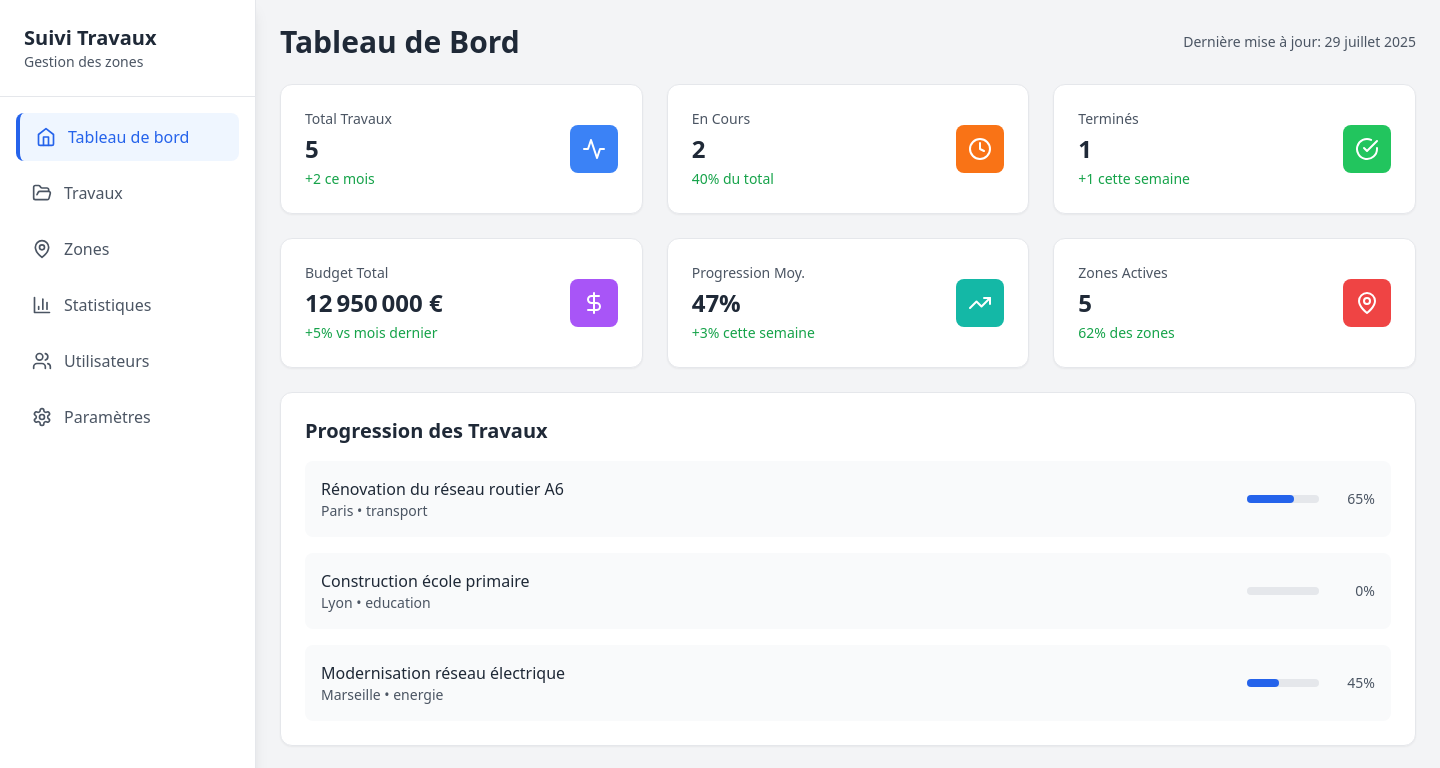
App Integration › should navigate between tabs
Expected: the heading "Tableau de Bord" is shown, x1=280 y1=24 x2=520 y2=60
// Click on Travaux tab
What coordinates should you click on to do the following:
click the button "Travaux"
I would click on:
 (128, 193)
Its box is x1=16 y1=169 x2=239 y2=217.
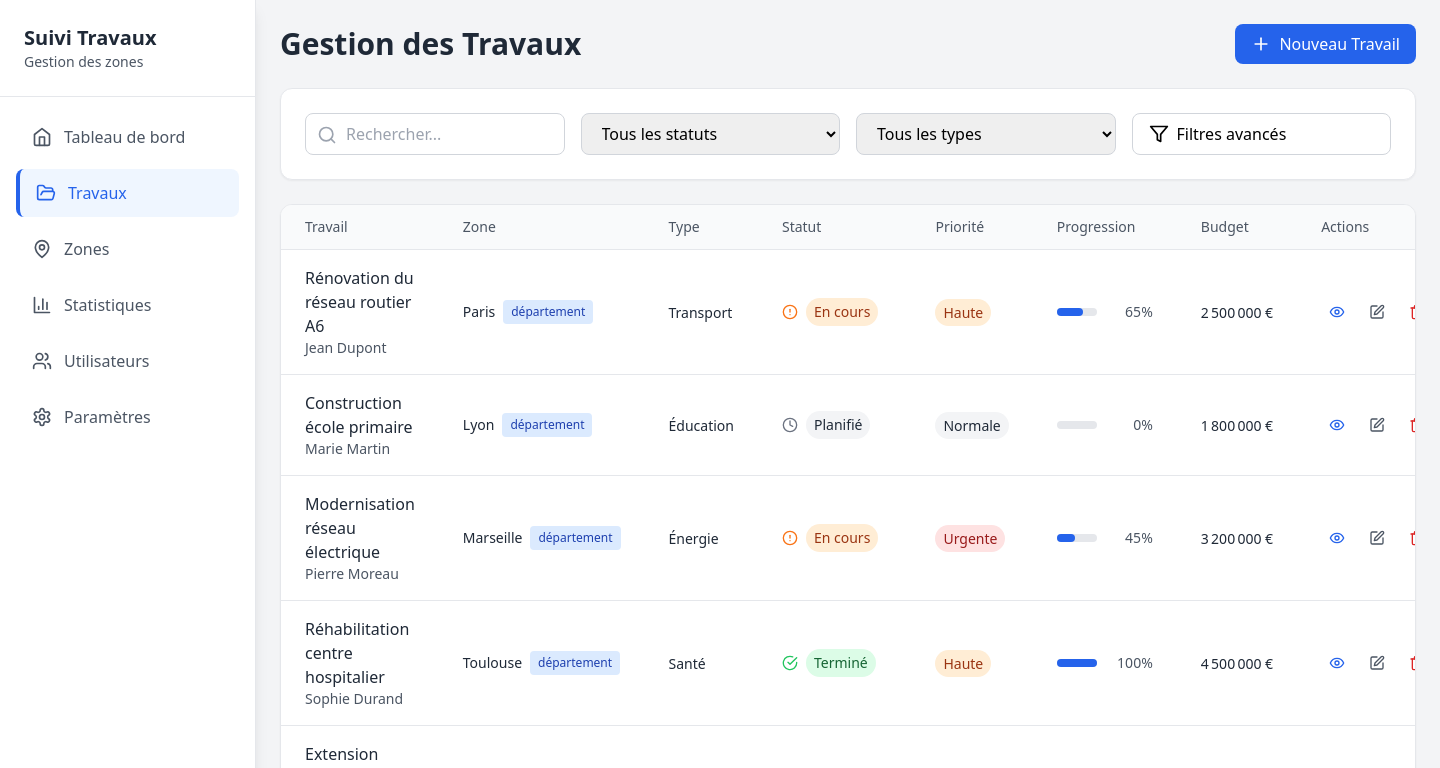
Expected: the heading "Gestion des Travaux" is shown, x1=280 y1=26 x2=581 y2=62
// Click on Zones tab
What coordinates should you click on to do the following:
click the button "Zones"
I would click on:
 (128, 249)
Its box is x1=16 y1=225 x2=239 y2=273.
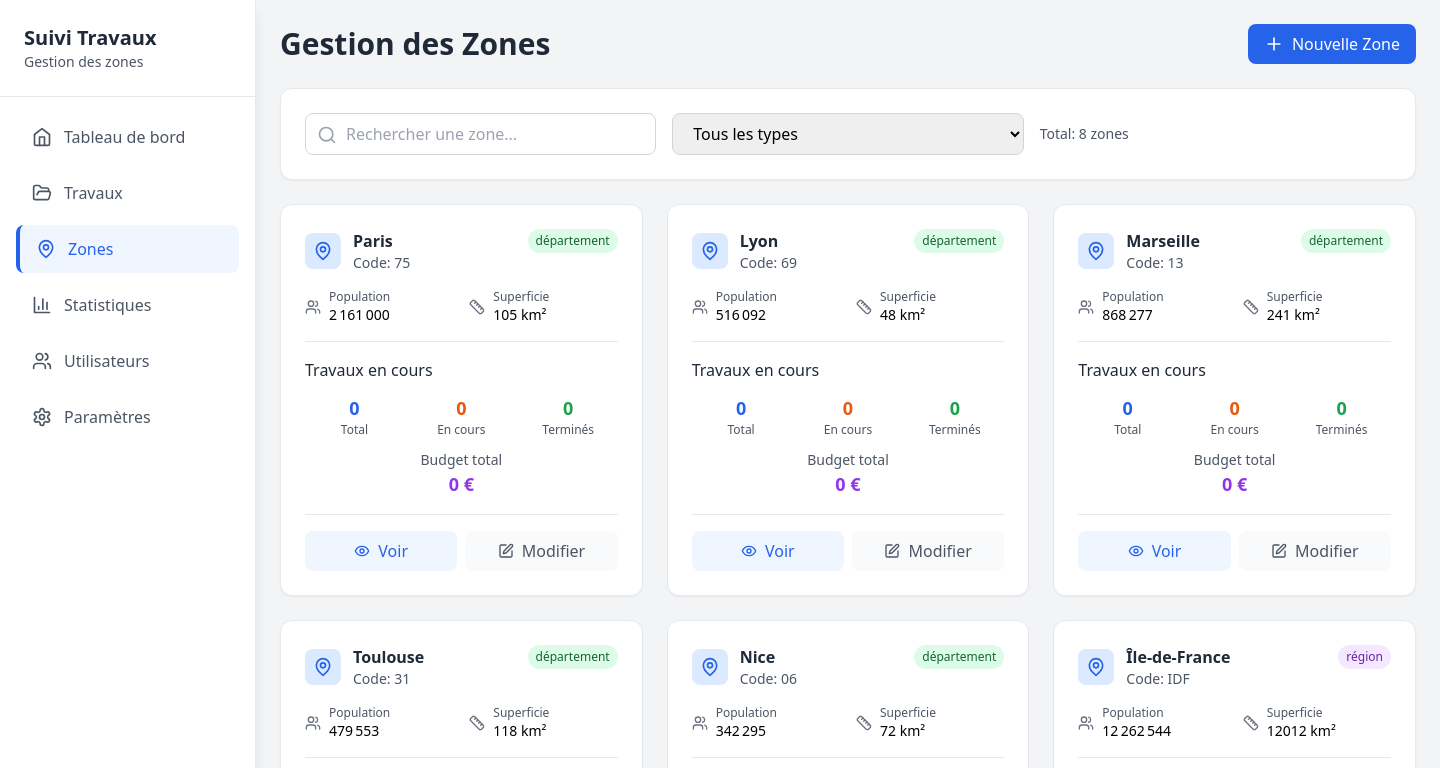
Expected: the heading "Gestion des Zones" is shown, x1=280 y1=26 x2=550 y2=62
// Click back on Dashboard
What coordinates should you click on to do the following:
click the button "Tableau de bord"
I would click on:
 (128, 137)
Its box is x1=16 y1=113 x2=239 y2=161.
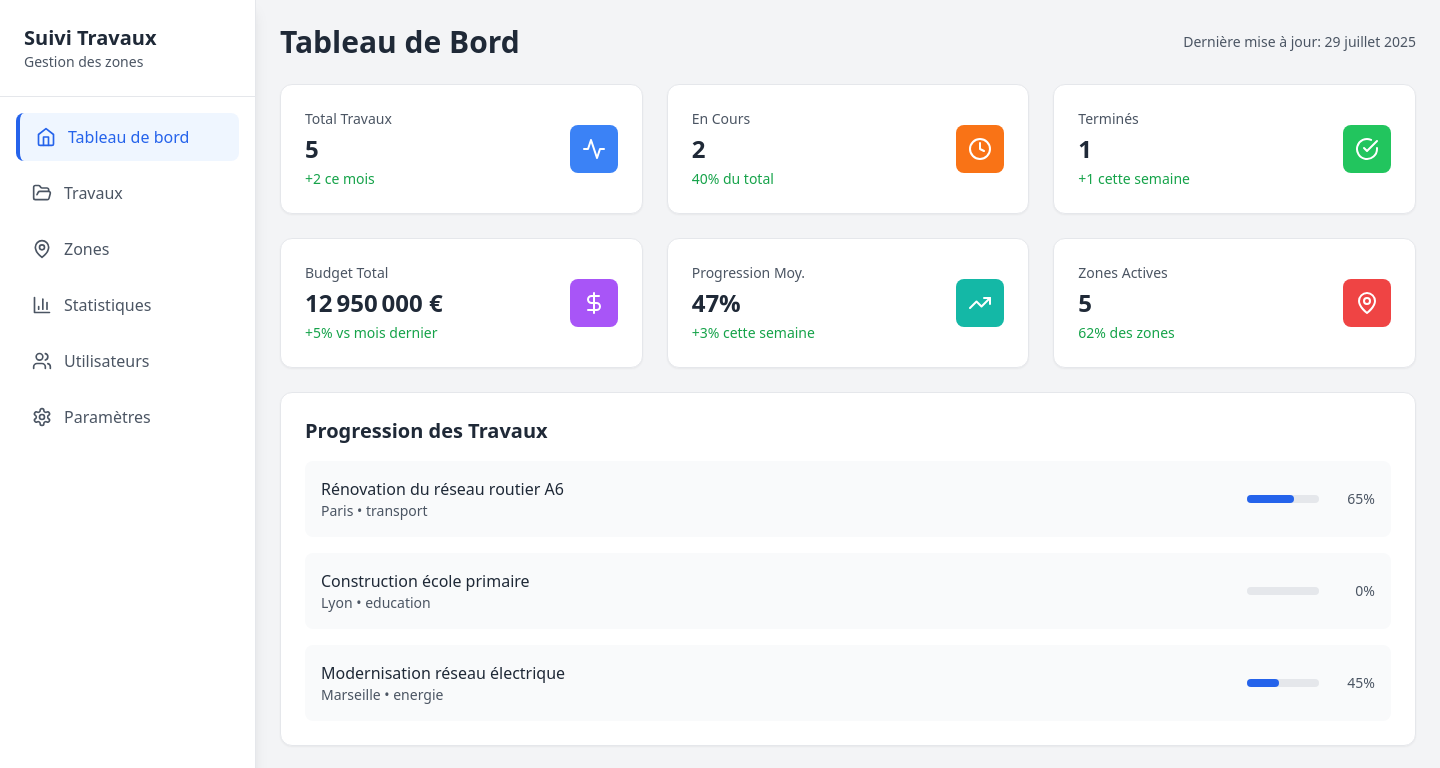
Expected: the heading "Tableau de Bord" is shown, x1=280 y1=24 x2=520 y2=60
